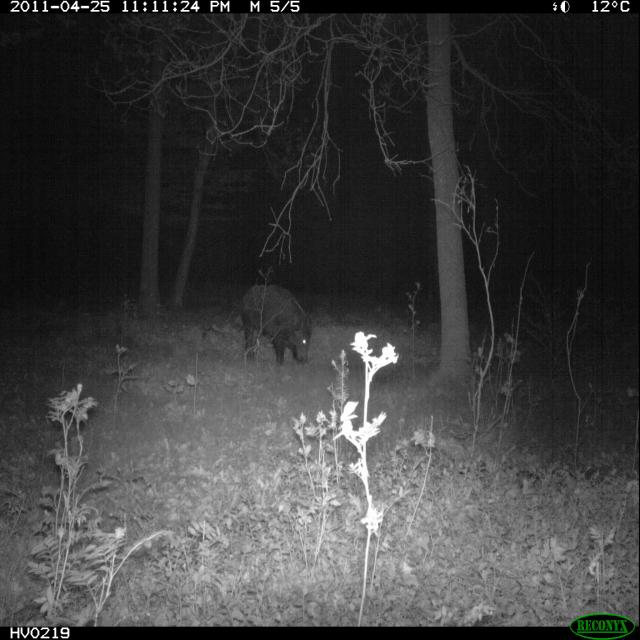boar: (224, 259, 331, 386)
